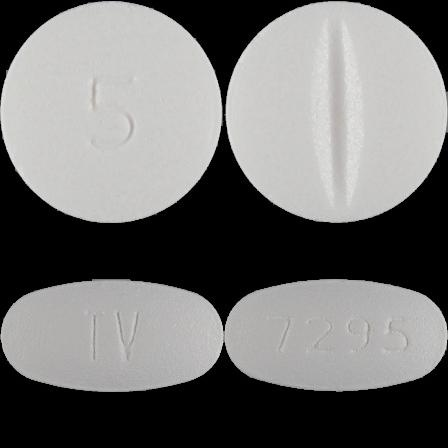61786-730: (0, 0, 224, 224)
